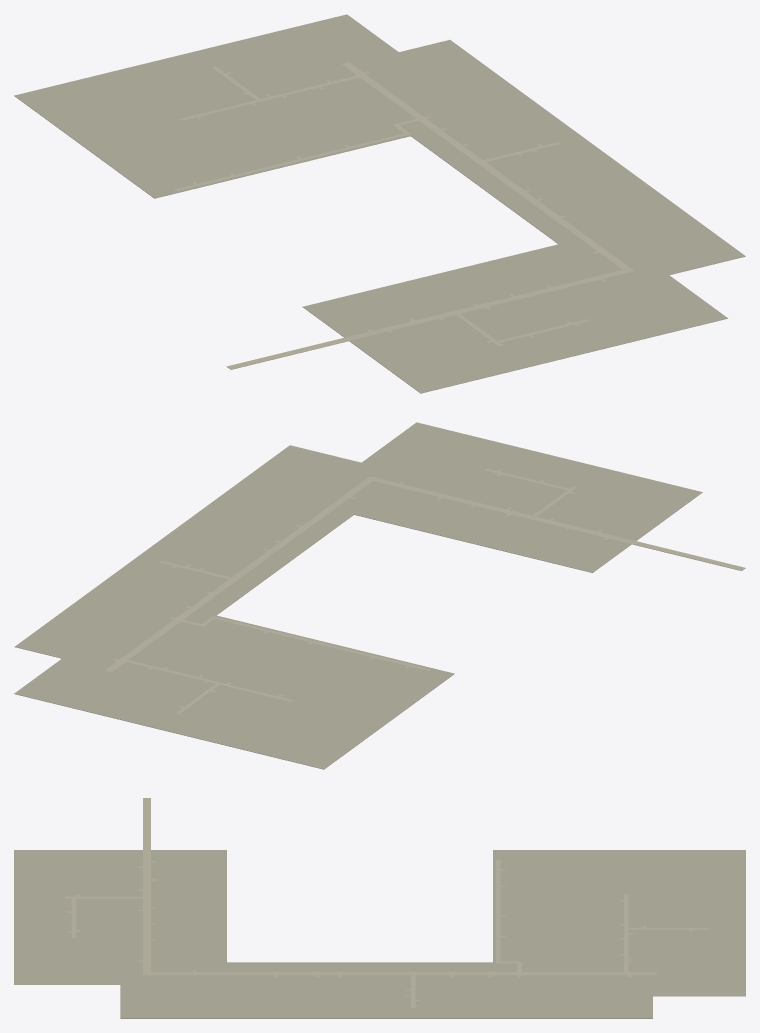
The model's file is C02-environment.glb.
The picture shows the model from 3 angles, top to bottom: view 1: azimuth 30°, elevation 25°; view 2: azimuth 150°, elevation 25°; view 3: azimuth 270°, elevation 25°; orthographic projection. The views are drawn at different scales.
Visible parts, largest first — view 1: C02_single_shared_terrain; view 2: C02_single_shared_terrain; view 3: C02_single_shared_terrain.
Boxes of the visible parts, bbox=[...] form: C02_single_shared_terrain: bbox=[14, 14, 745, 393]; C02_single_shared_terrain: bbox=[14, 422, 745, 769]; C02_single_shared_terrain: bbox=[14, 798, 745, 1018].
Size of the model in its own units: 392 by 0.2 by 550.
